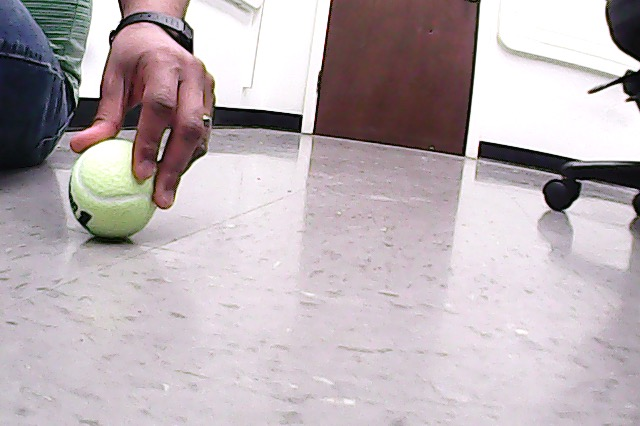ball: (67, 139, 161, 241)
